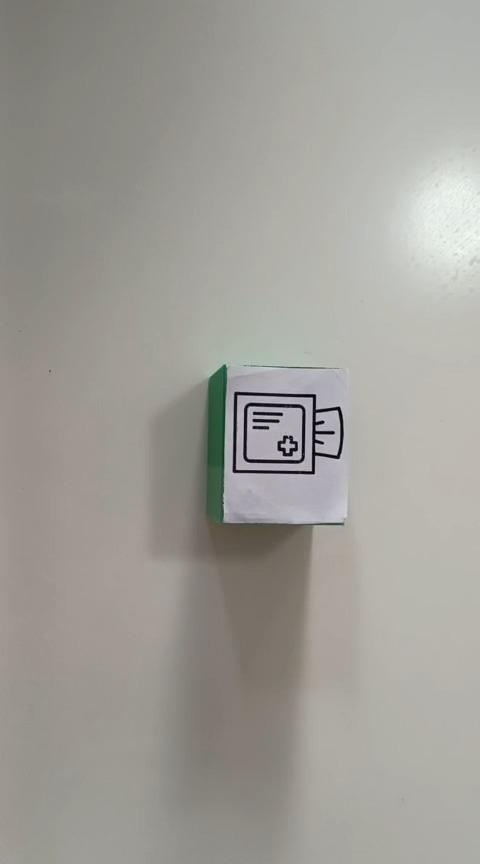Gauze: (205, 362, 350, 526)
